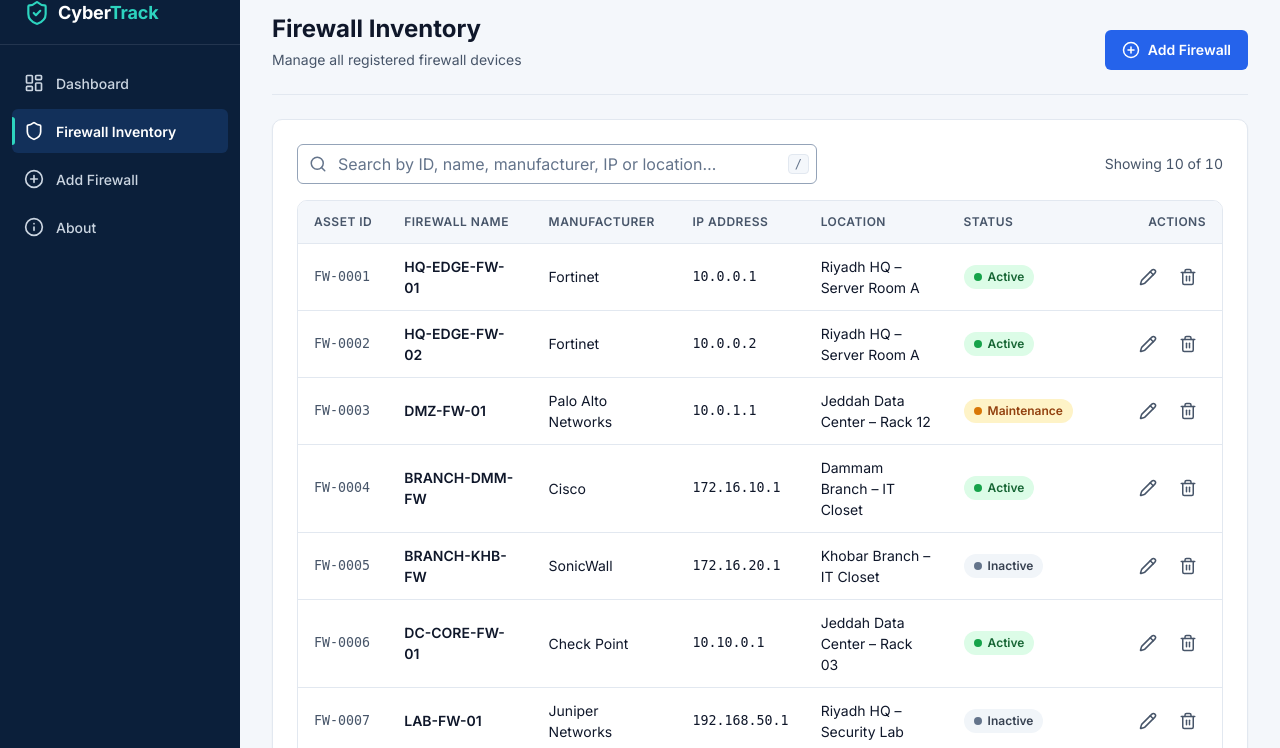
it: Firewall Inventory › deletes a firewall after confirmation
The image size is (1280, 748).
Click the button named "Delete DMZ-FW-01" at coordinates (1188, 411), box [1170, 393, 1206, 429]
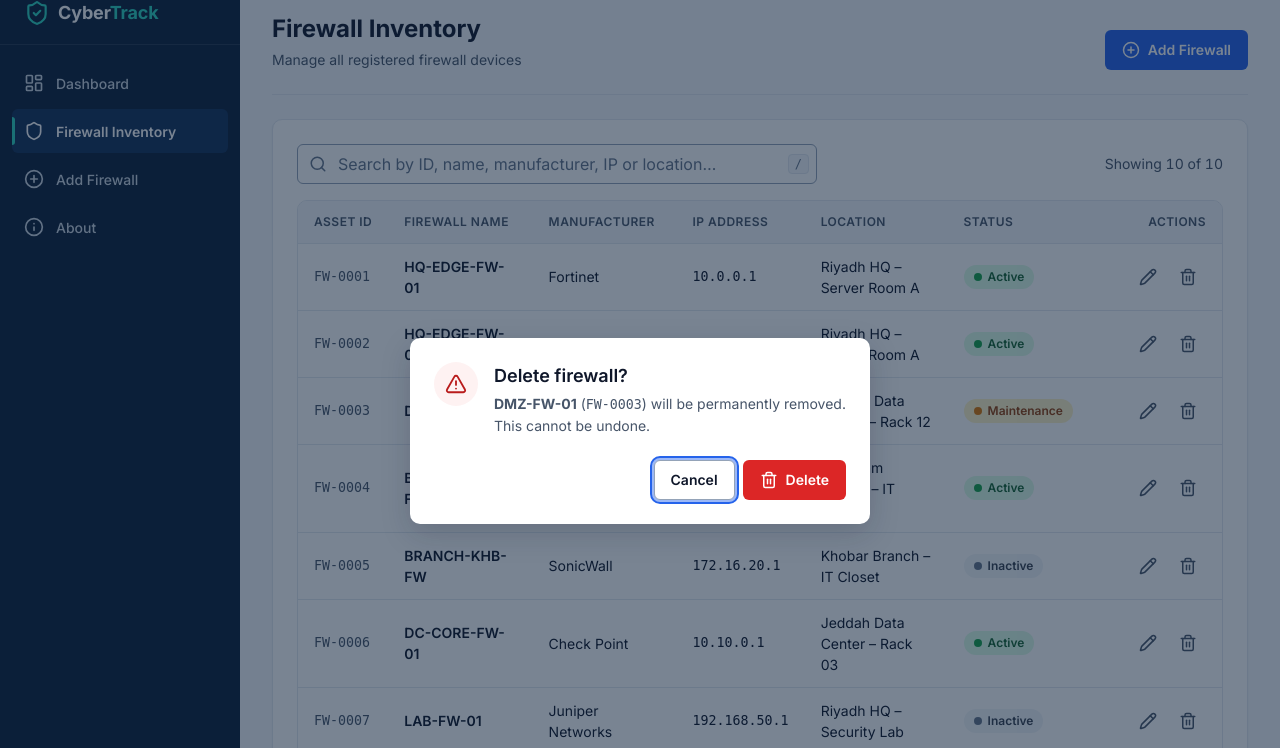
Now the dialog "Delete firewall?" shows "DMZ-FW-01", box [494, 396, 577, 412]
Now the dialog "Delete firewall?" shows "FW-0003", box [586, 398, 642, 412]
Click the button "Delete" at coordinates (794, 480), box [743, 460, 846, 500]
(page scrolled)
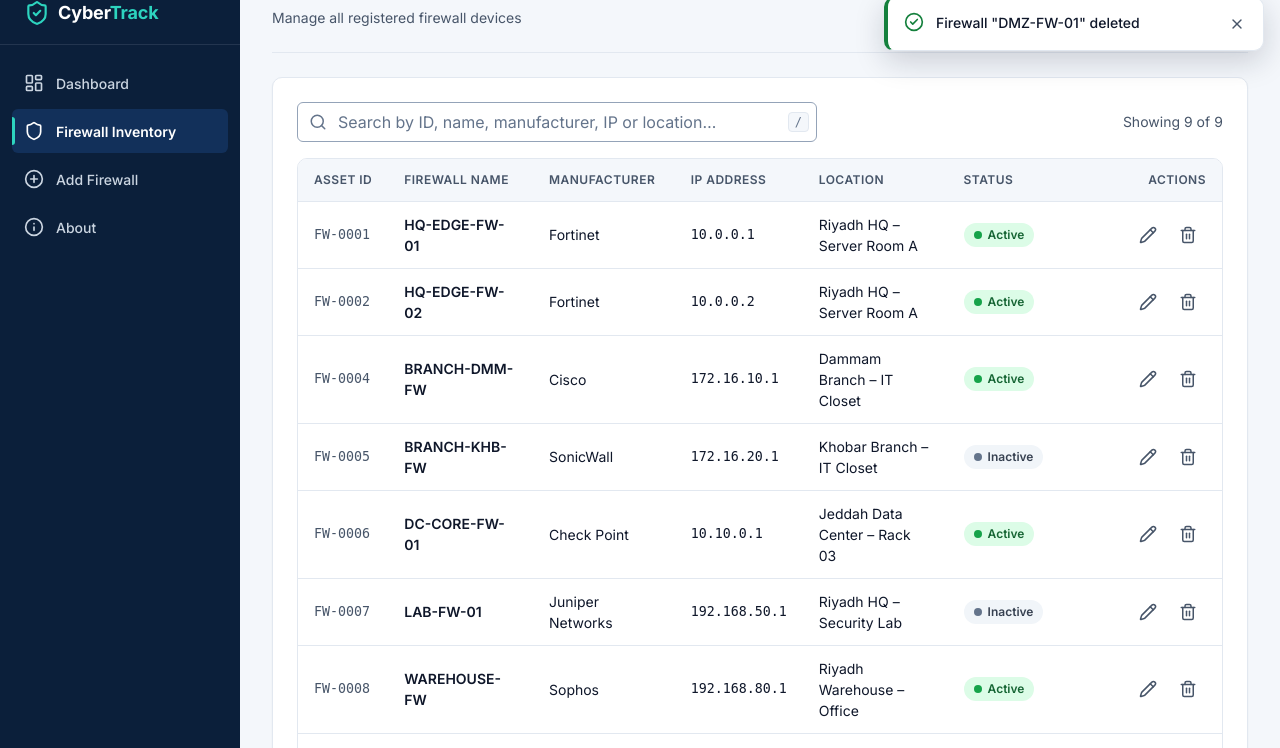
Now the dialog is gone
Now the text "Showing 9 of 9" is shown, box [1123, 111, 1223, 132]
Now the text "Firewall \"DMZ-FW-01\" deleted" is shown, box [936, 14, 1140, 31]
